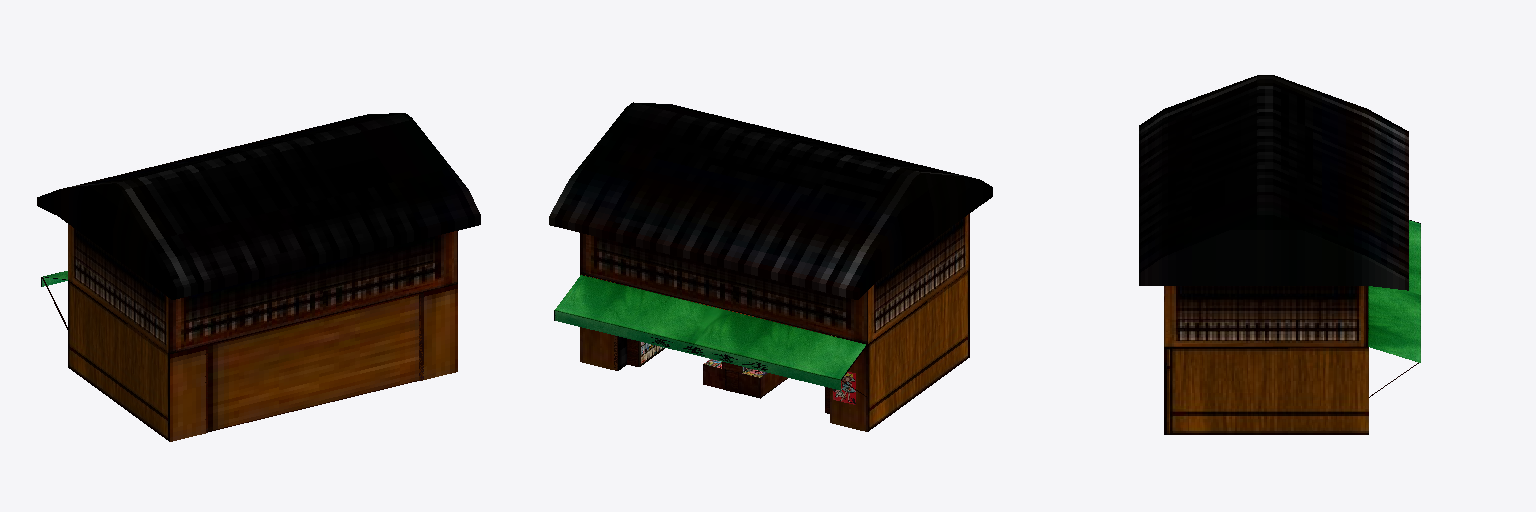
3 views of the same model, side by side, from view 1: azimuth 30°, elevation 25°; view 2: azimuth 150°, elevation 25°; view 3: azimuth 270°, elevation 25° (orthographic).
Size of the model in its own units: 7.69 by 5.25 by 6.1.
Materials: 1 (1 with a texture image).